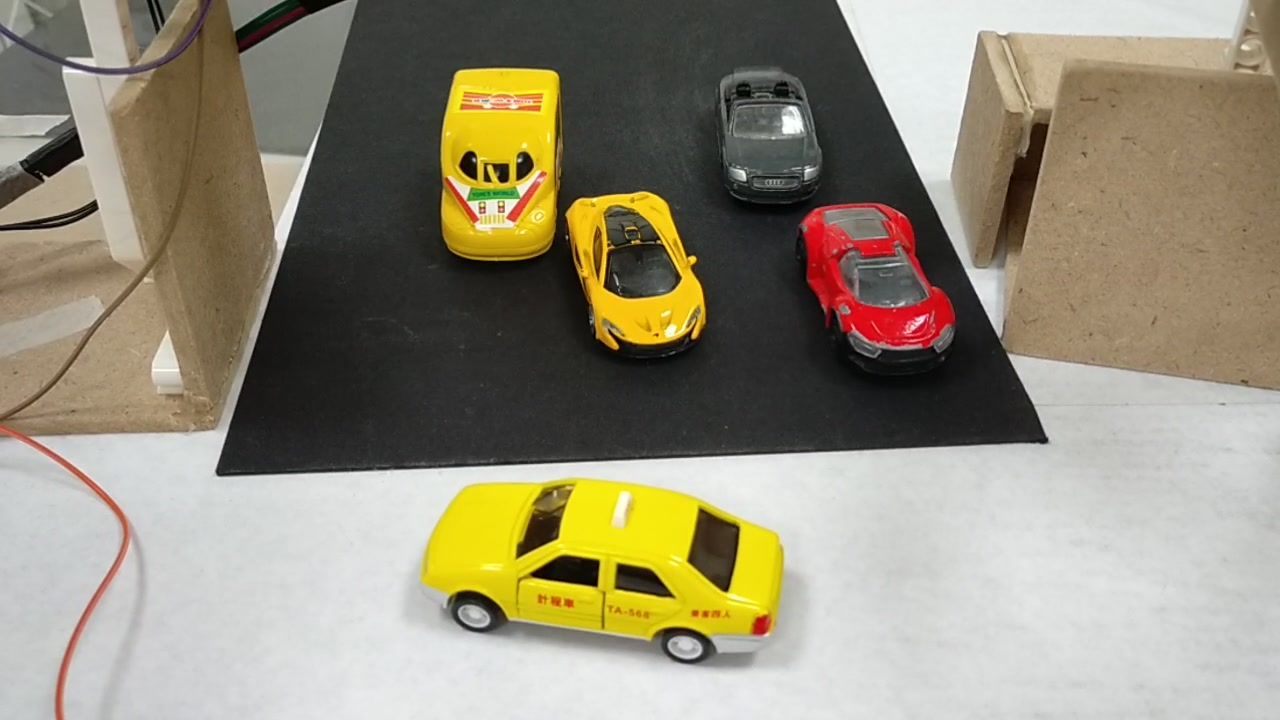car: (425, 474, 783, 661), (793, 204, 960, 369), (566, 199, 712, 358), (712, 68, 822, 204)
